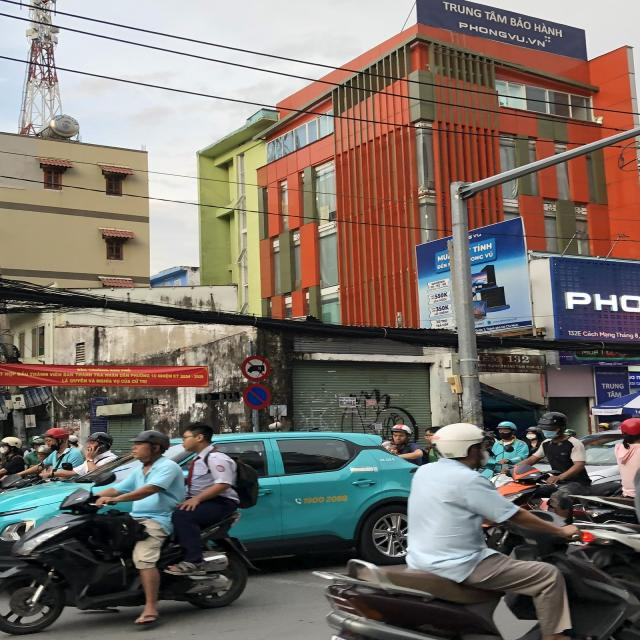Bien bao cam do xe: (242, 383, 274, 411)
Bien bao cam xe oto tai: (239, 355, 273, 382)
